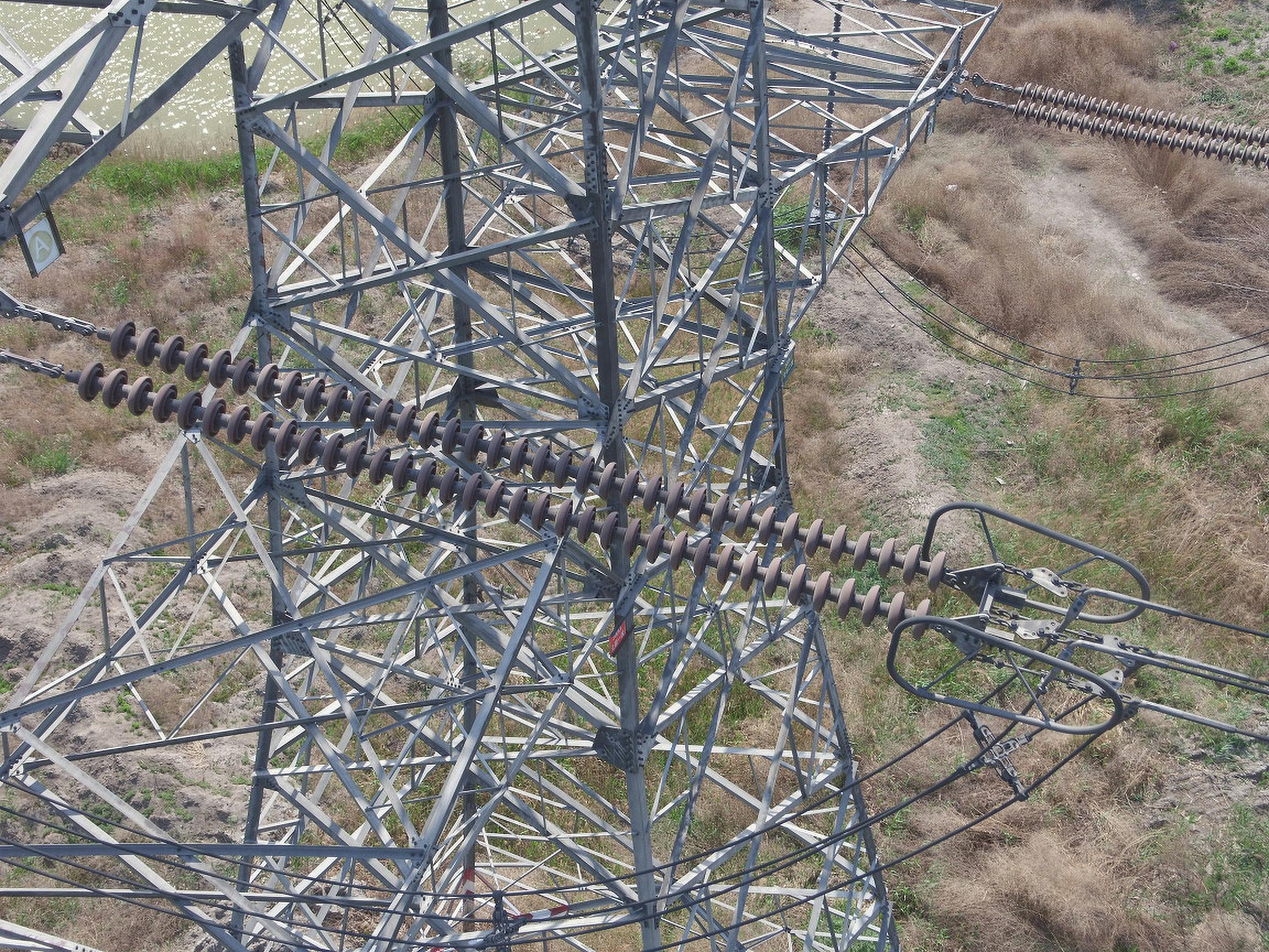insulator: (69, 316, 951, 645), (1008, 77, 1269, 170)
